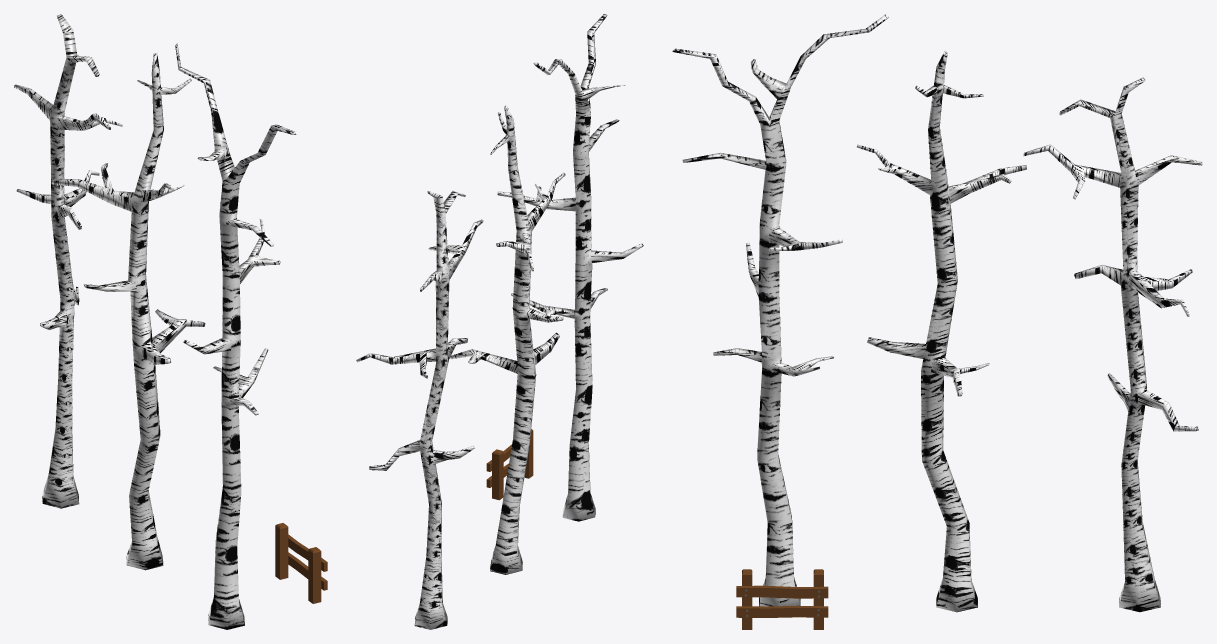
The model's file is assets 1.fbx.
The picture shows the model from 3 angles, left to right: view 1: azimuth 30°, elevation 25°; view 2: azimuth 150°, elevation 25°; view 3: azimuth 270°, elevation 25°; orthographic projection. The views are drawn at different scales.
Parts seen in each view (by area): view 1: Cube, Cube.001, Cube.002, Cube.003; view 2: Cube, Cube.001, Cube.002, Cube.003; view 3: Cube, Cube.001, Cube.002, Cube.003.
Part boxes in pixels (x1,y1,x2,y2): Cube: (175, 43, 296, 629); Cube.001: (51, 52, 205, 570); Cube.002: (14, 14, 122, 508); Cube.003: (275, 523, 327, 603); Cube: (497, 14, 643, 521); Cube.001: (450, 105, 565, 574); Cube.002: (356, 191, 483, 629); Cube.003: (486, 429, 533, 500); Cube: (672, 14, 888, 606); Cube.001: (856, 50, 1026, 612); Cube.002: (1023, 77, 1202, 612); Cube.003: (736, 569, 828, 629).
Size of the model in its own units: 690 by 2478 by 2024.
